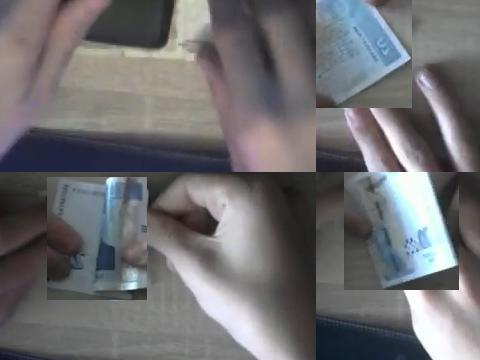20leva: (344, 172, 459, 290), (47, 177, 147, 300), (316, 0, 412, 108)
